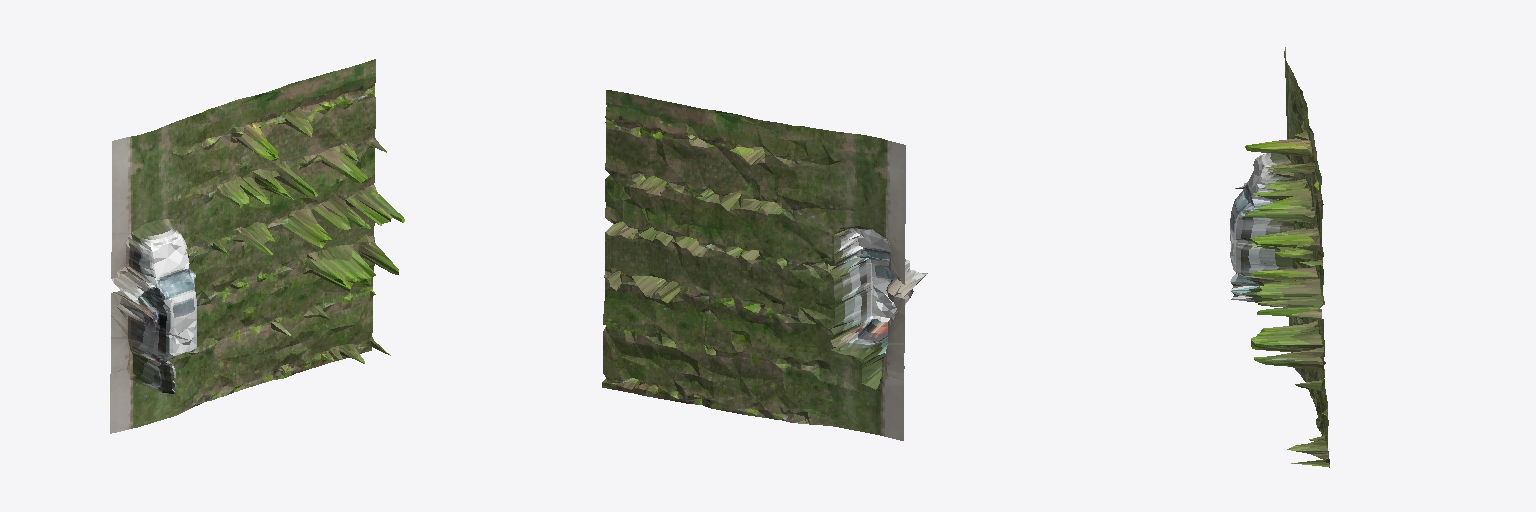
3 renders of one model, left to right at view 1: azimuth 30°, elevation 25°; view 2: azimuth 150°, elevation 25°; view 3: azimuth 270°, elevation 25°, orthographic.
Visible parts, largest first — view 1: grp1; view 2: grp1; view 3: grp1.
Boxes of the visible parts, x1,y1,x2,y2 form: grp1: [110, 59, 404, 433]; grp1: [602, 90, 927, 440]; grp1: [1230, 47, 1329, 467].
Size of the model in its own units: 10 by 10 by 3.1.
1 materials, 1 textured.